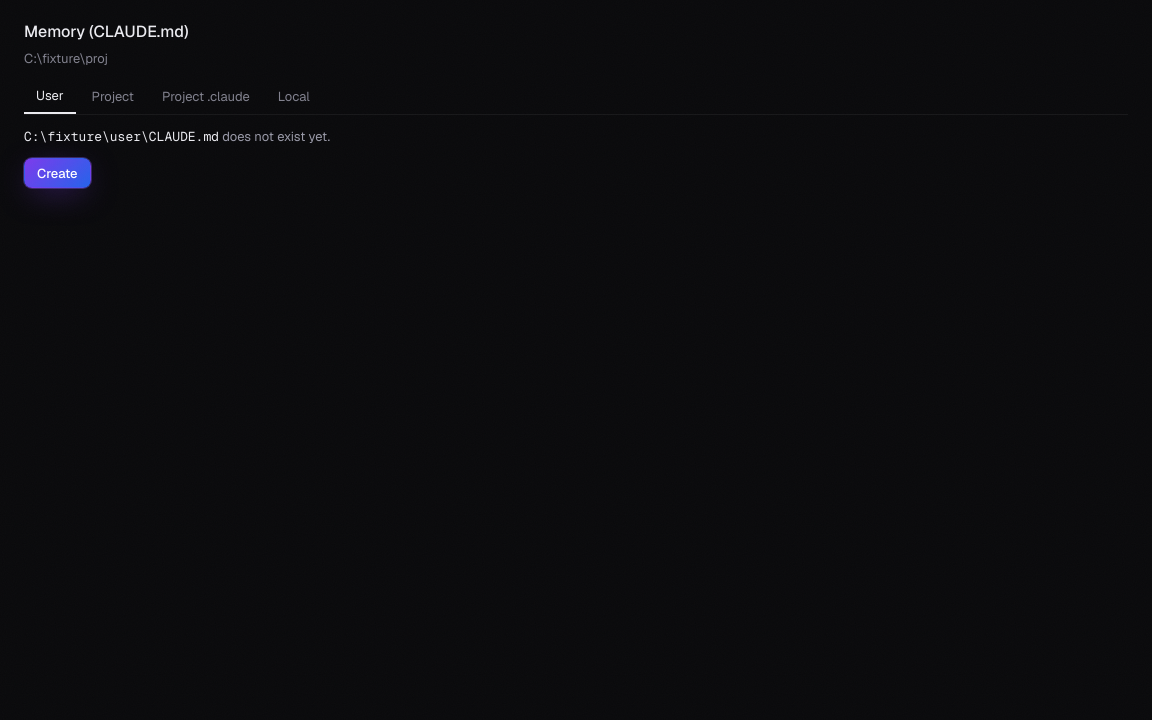
Test: MemoryPage › Create on a missing file sends baseHash null
Step 1. Click the button "Create" → (57, 173), box [24, 158, 91, 188]
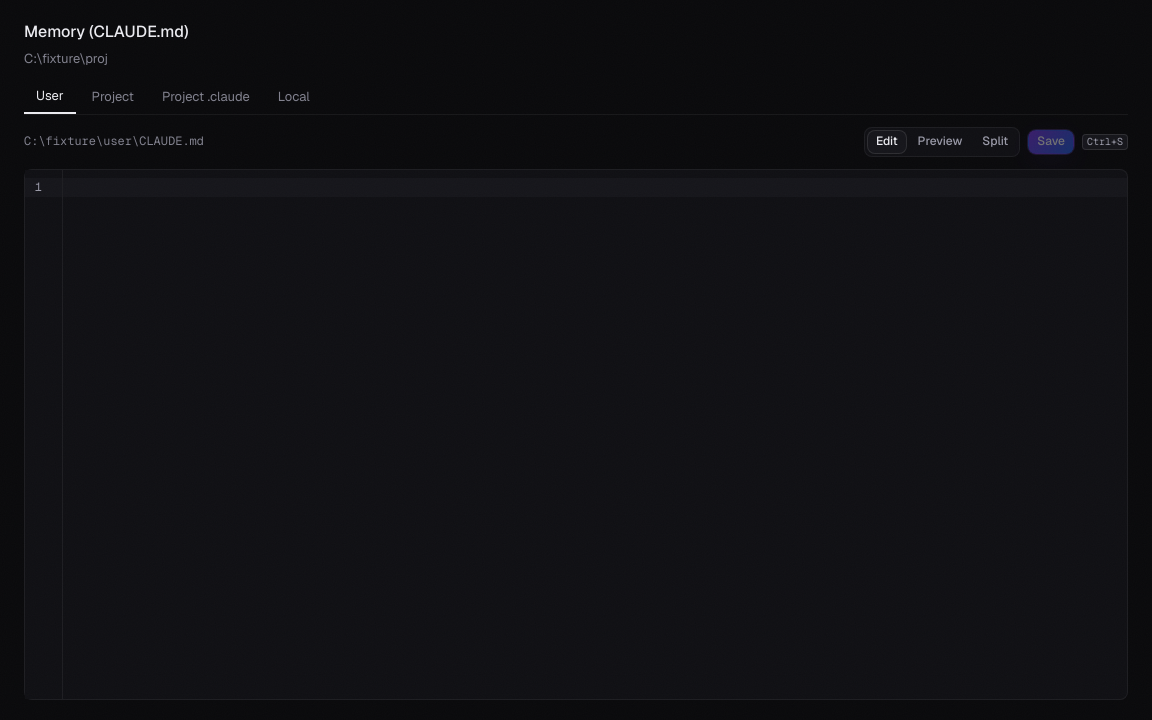
Expected: the field named "CLAUDE.md editor" is shown, [63, 178, 1127, 197]
